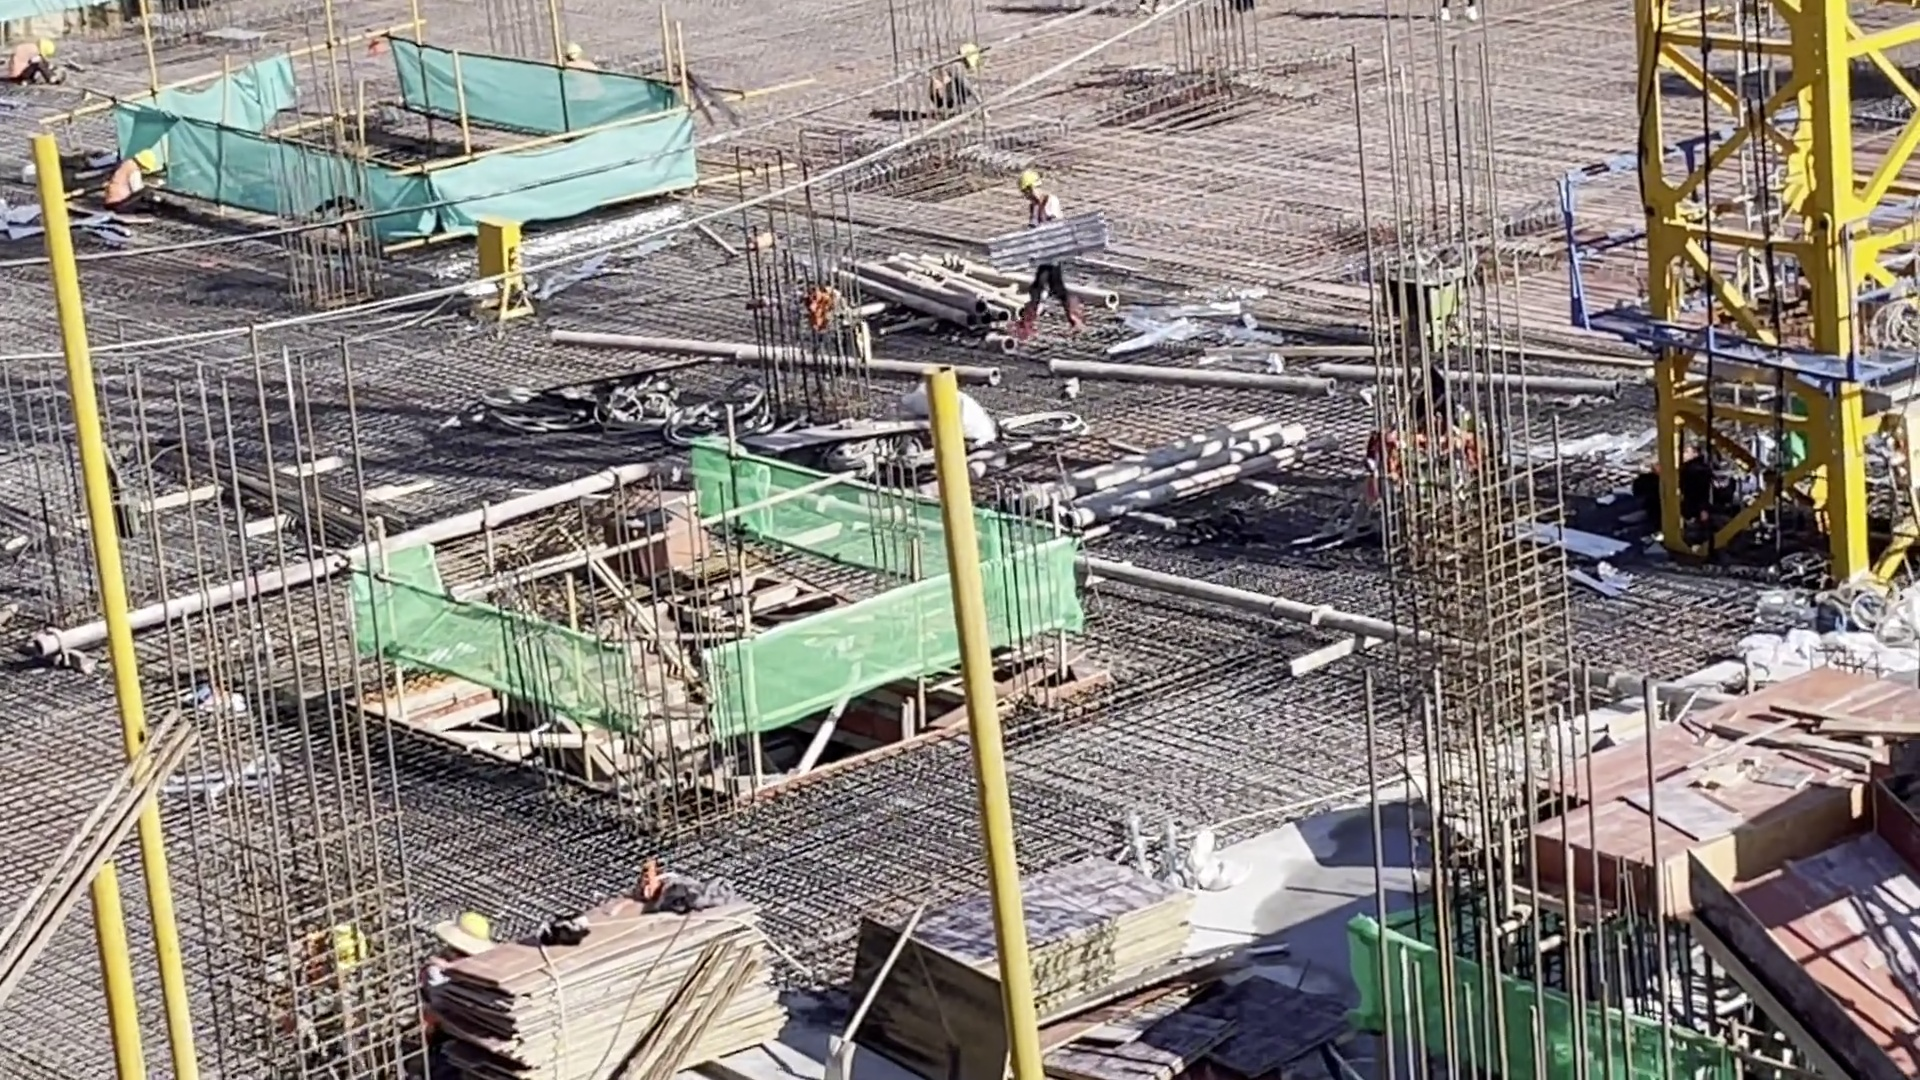helmet: (323, 925, 367, 972), (452, 902, 488, 956), (1003, 161, 1042, 194), (134, 145, 166, 175), (31, 32, 57, 61), (961, 37, 980, 72), (566, 35, 588, 60)
person: (1017, 160, 1099, 346), (93, 129, 186, 230), (920, 31, 999, 116), (1, 13, 71, 92)
vest: (100, 159, 143, 202), (4, 42, 46, 80)
